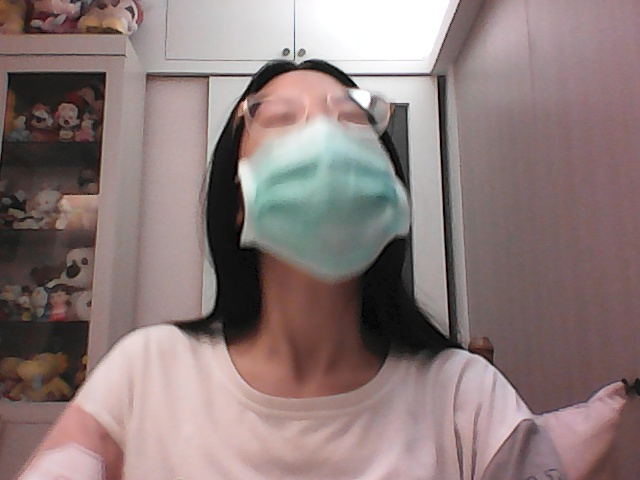Mask: (225, 112, 420, 290)
